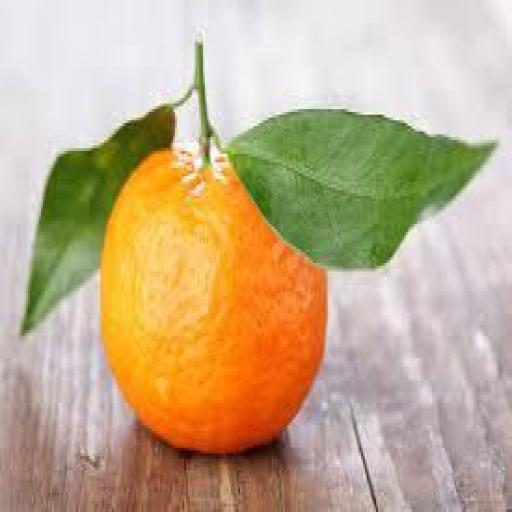orange: (101, 149, 325, 453)
